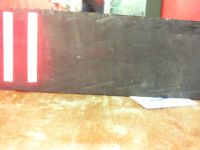switch: (3, 11, 14, 82), (27, 12, 37, 82)
